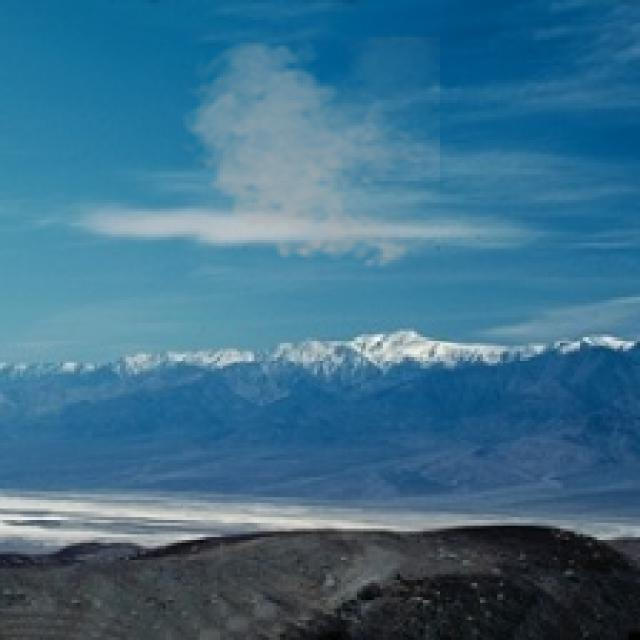Smoke: (174, 34, 440, 274)
